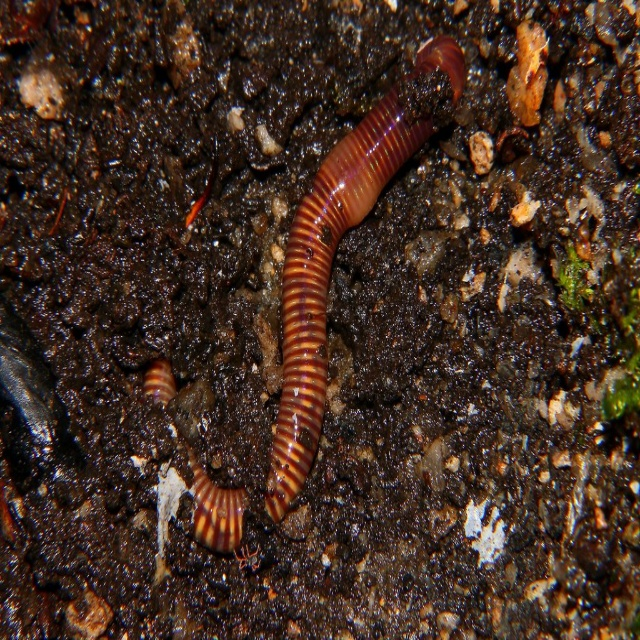Centipede: (140, 35, 466, 555)
